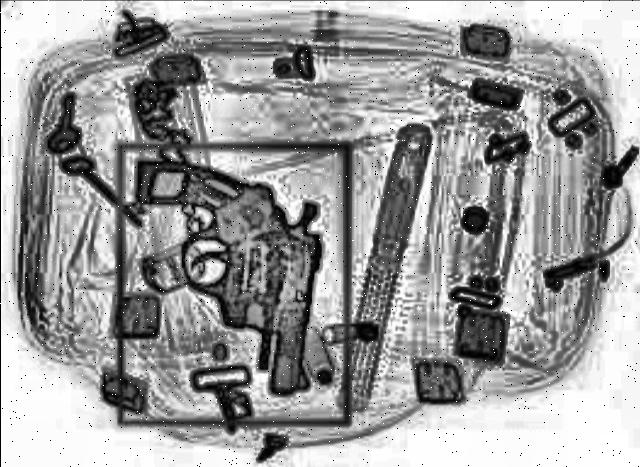Gun: (136, 153, 328, 397)
